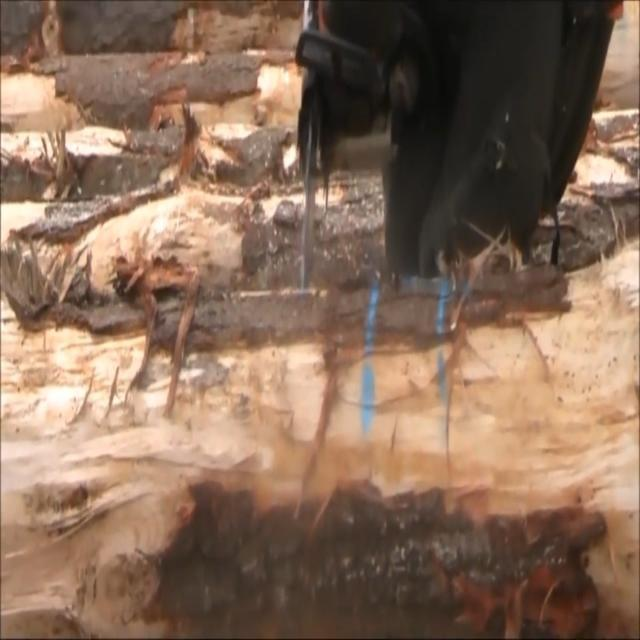Chainsaw: (275, 0, 387, 323)
